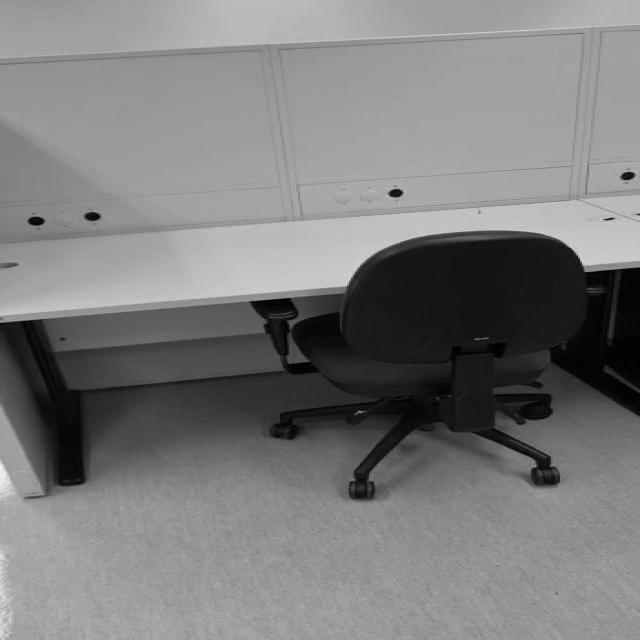chair: (248, 230, 608, 500)
